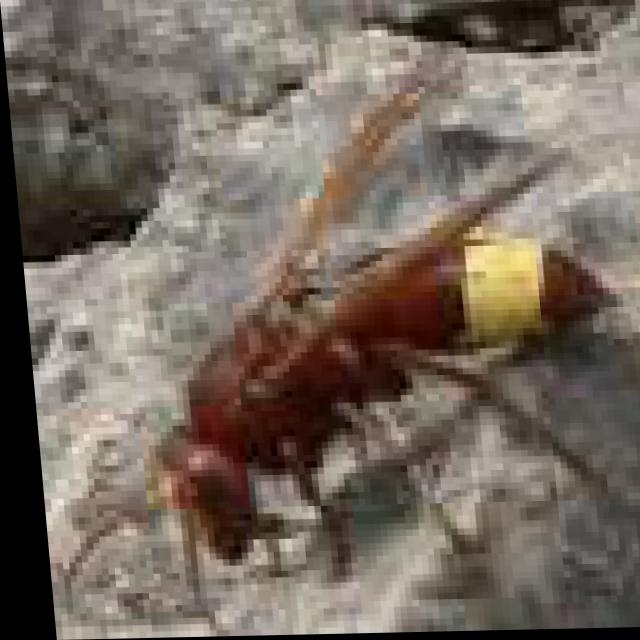Vespa Orientalis: (3, 40, 639, 634)
